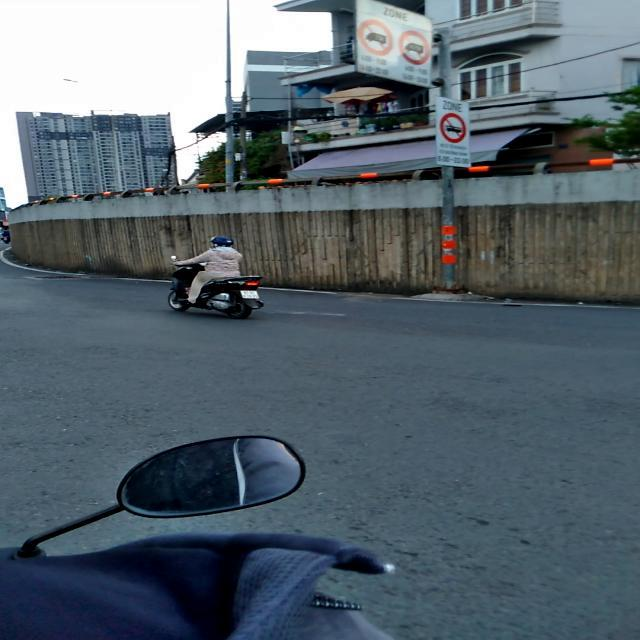Cam xe tai tren 2_5: (356, 19, 394, 56), (398, 30, 431, 65)
